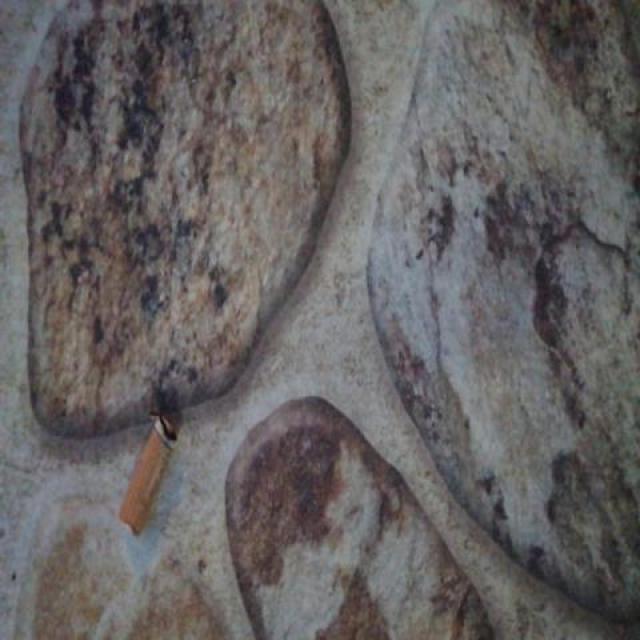non-organic waste: (112, 404, 185, 540)
